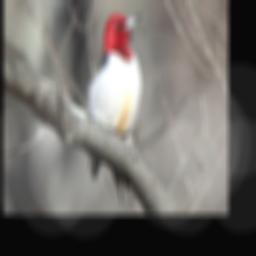Woodpecker: (84, 13, 144, 207)
